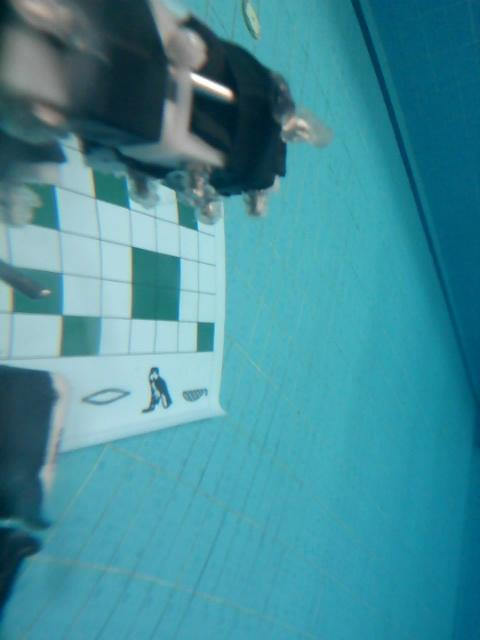Basket: (181, 386, 215, 410)
Mouth: (80, 385, 131, 411)
Owl: (137, 361, 175, 420)
